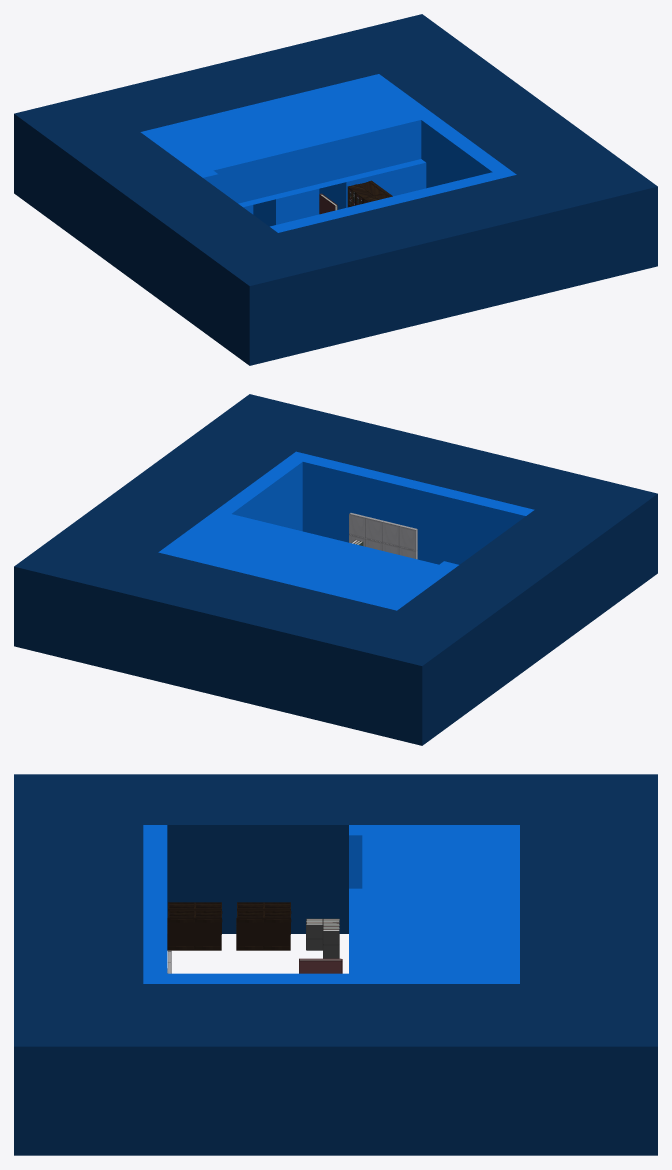
Rendered from FaceE2.glb.
3 renders of one model, top to bottom at view 1: azimuth 30°, elevation 25°; view 2: azimuth 150°, elevation 25°; view 3: azimuth 270°, elevation 25°, orthographic. The views are drawn at different scales.
Parts seen in each view (by area): view 1: paredeTRUETRUE-col.006, PlanoTrue-col.005, estante-col.007; view 2: paredeTRUETRUE-col.006, PlanoTrue-col.005, livros.078-col.015; view 3: paredeTRUETRUE-col.006, PlanoTrue-col.005, estante-col.008, estante-col.010, livros.078-col.014.
Part boxes in pixels (x1,y1,x2,y2): paredeTRUETRUE-col.006: [14, 14, 657, 365]; PlanoTrue-col.005: [140, 74, 516, 232]; estante-col.007: [347, 182, 388, 207]; paredeTRUETRUE-col.006: [14, 394, 657, 745]; PlanoTrue-col.005: [158, 451, 534, 610]; livros.078-col.015: [349, 513, 417, 559]; paredeTRUETRUE-col.006: [14, 774, 657, 1155]; PlanoTrue-col.005: [143, 825, 519, 983]; estante-col.008: [167, 902, 222, 950]; estante-col.010: [236, 902, 291, 950]; livros.078-col.014: [299, 958, 342, 973].
Size of the model in its own units: 509 by 96.1 by 509.
Materials: 272 (269 with a texture image).
